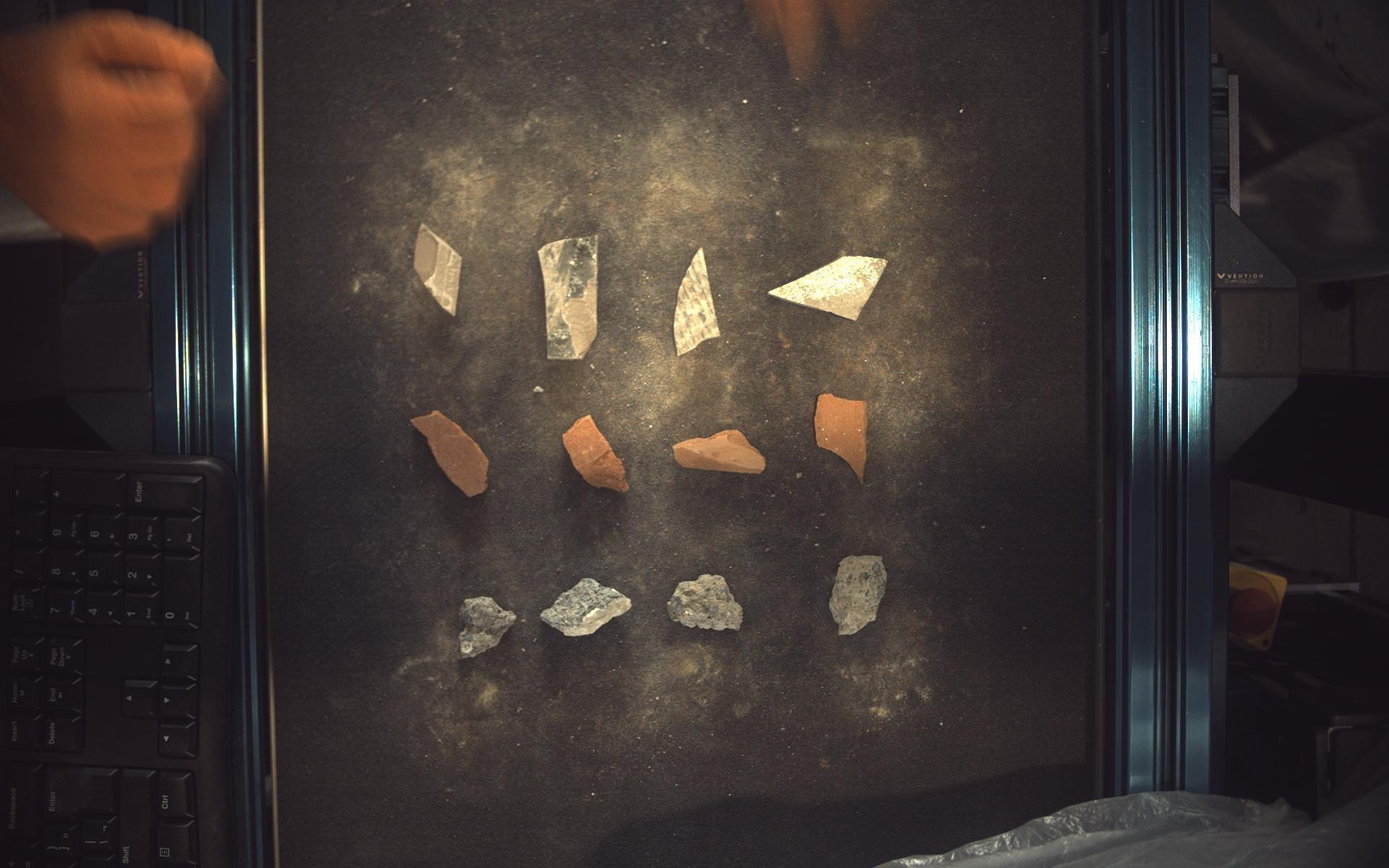brick: (412, 410, 489, 498), (564, 414, 630, 493), (816, 393, 868, 483), (674, 430, 767, 474)
concrete: (540, 579, 632, 637), (831, 556, 889, 636), (668, 575, 744, 631), (459, 597, 517, 659)
tile: (538, 234, 599, 359), (771, 255, 888, 320), (674, 247, 721, 355), (415, 223, 462, 315)
